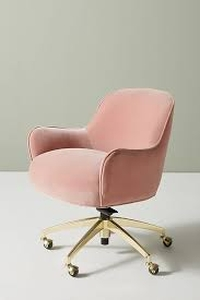chair: (26, 88, 174, 280)
